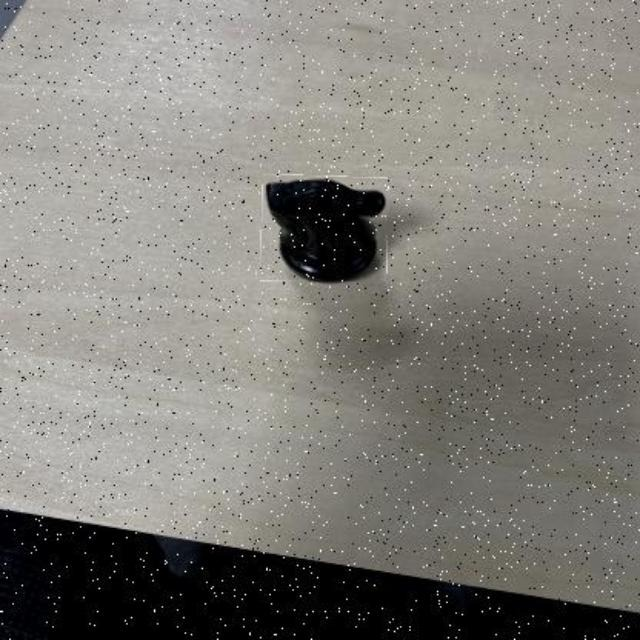black-knight: (262, 174, 388, 281)
